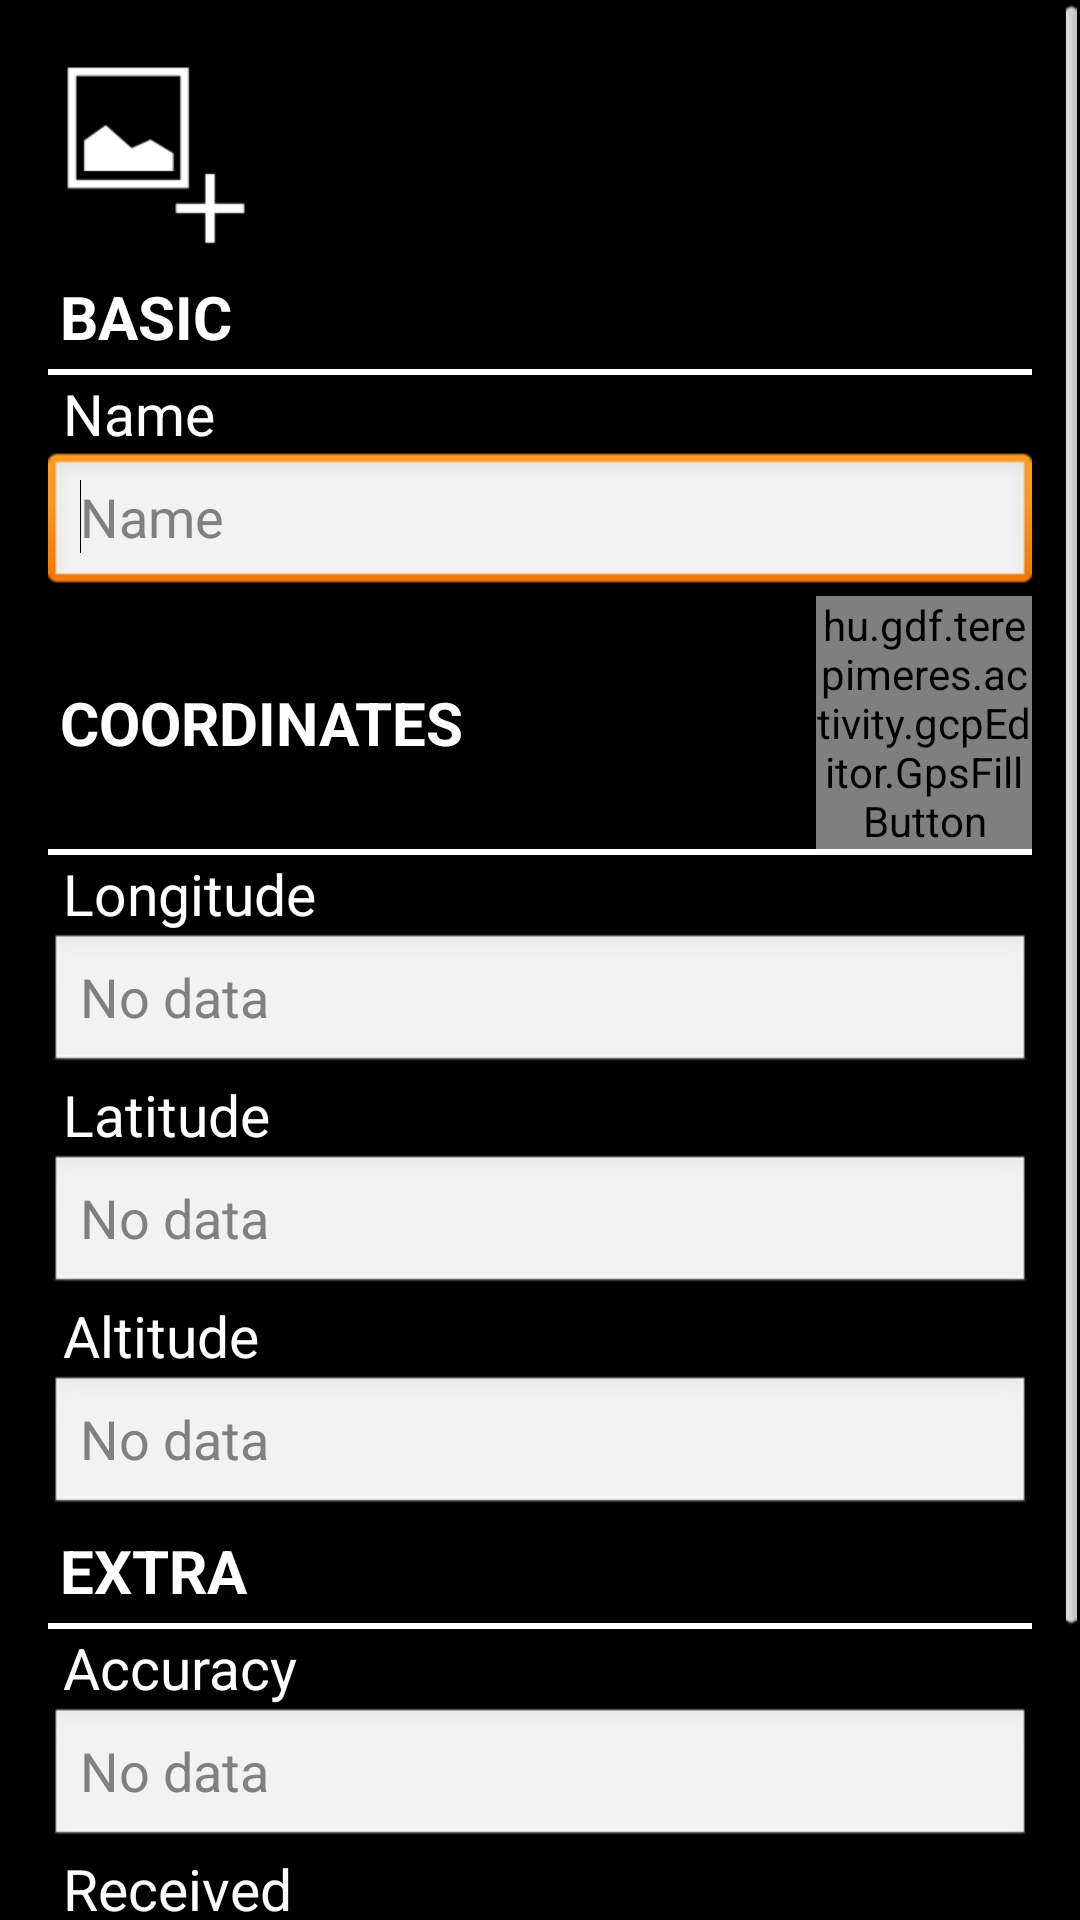

Where to tap for icons on this 1080×1920 app screen, as point (x, y):
Add image: point (156, 155)
